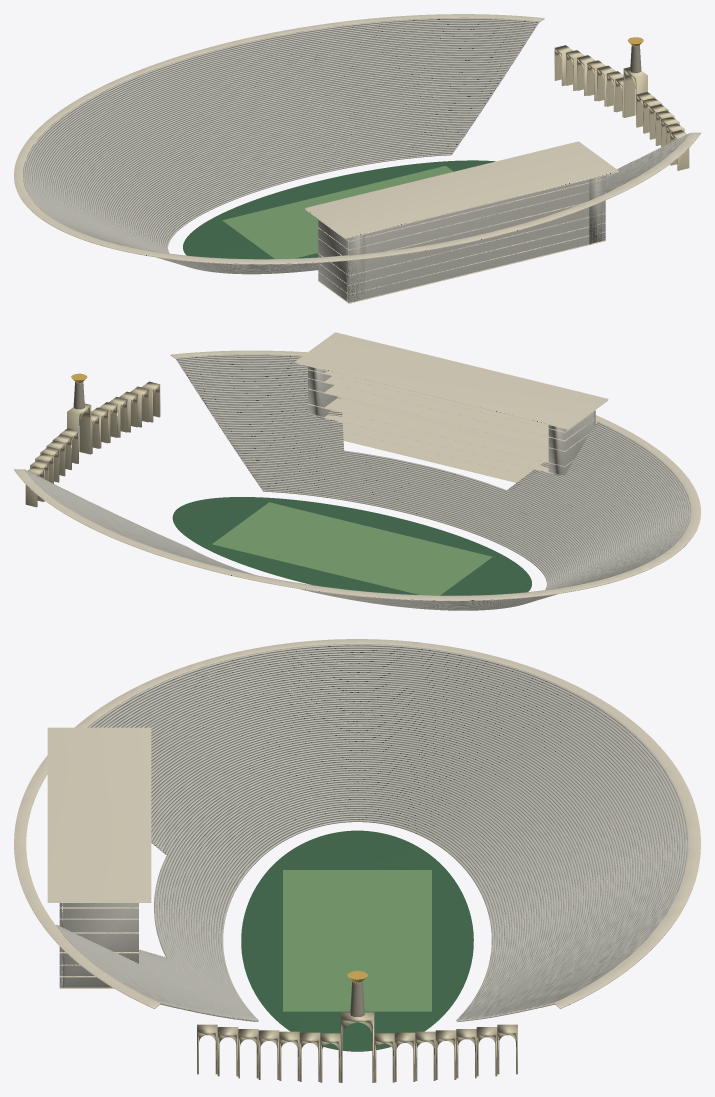
The model's file is coliseum-reference-R001.glb.
3 renders of one model, top to bottom at view 1: azimuth 30°, elevation 25°; view 2: azimuth 150°, elevation 25°; view 3: azimuth 270°, elevation 25°, orthographic. The views are drawn at different scales.
Visible parts, largest first — view 1: TowerRearWall, TowerRoof, BowlRim, FieldEnvelope, FootballLayout, TowerWestCore, BowlBand_080, BowlBand_079, BowlBand_078, BowlBand_076, BowlBand_077, BowlBand_075 (+78 smaller); view 2: FootballLayout, TowerRoof, FieldEnvelope, BowlRim, tower_L4, tower_L5, tower_L3, tower_L6, tower_L2, BowlBand_080, TowerWestCore, tower_L1 (+84 smaller); view 3: FootballLayout, TowerRoof, FieldEnvelope, BowlRim, TowerEastCore, BowlBand_080, BowlBand_079, BowlBand_078, BowlBand_077, BowlBand_076, BowlBand_075, BowlBand_074 (+74 smaller).
Boxes of the visible parts, <box> form: TowerRearWall: <box>346,175,605,302</box>; TowerRoof: <box>305,141,618,238</box>; BowlRim: <box>14,14,700,264</box>; FieldEnvelope: <box>183,160,495,259</box>; FootballLayout: <box>222,166,453,258</box>; TowerWestCore: <box>318,219,365,302</box>; BowlBand_080: <box>23,17,691,259</box>; BowlBand_079: <box>24,19,688,230</box>; BowlBand_078: <box>26,21,686,232</box>; BowlBand_076: <box>30,24,682,232</box>; BowlBand_077: <box>28,23,684,233</box>; BowlBand_075: <box>32,26,680,234</box>; FootballLayout: <box>212,502,492,595</box>; TowerRoof: <box>295,332,608,429</box>; FieldEnvelope: <box>172,497,531,595</box>; BowlRim: <box>14,350,700,600</box>; tower_L4: <box>308,397,573,466</box>; tower_L5: <box>308,385,590,451</box>; tower_L3: <box>309,413,563,475</box>; tower_L6: <box>308,376,592,441</box>; tower_L2: <box>342,423,533,475</box>; BowlBand_080: <box>24,354,691,596</box>; TowerWestCore: <box>548,410,595,475</box>; tower_L1: <box>343,432,524,482</box>; FootballLayout: <box>283,870,431,1011</box>; TowerRoof: <box>47,727,151,902</box>; FieldEnvelope: <box>241,830,473,1051</box>; BowlRim: <box>14,639,700,1008</box>; TowerEastCore: <box>59,903,138,987</box>; BowlBand_080: <box>55,644,689,1004</box>; BowlBand_079: <box>58,646,686,1004</box>; BowlBand_078: <box>61,648,684,1004</box>; BowlBand_077: <box>63,650,681,1005</box>; BowlBand_076: <box>66,653,679,1005</box>; BowlBand_075: <box>68,655,676,1005</box>; BowlBand_074: <box>71,657,674,1005</box>.
Size of the model in its own units: 296 by 50.31 by 225.
